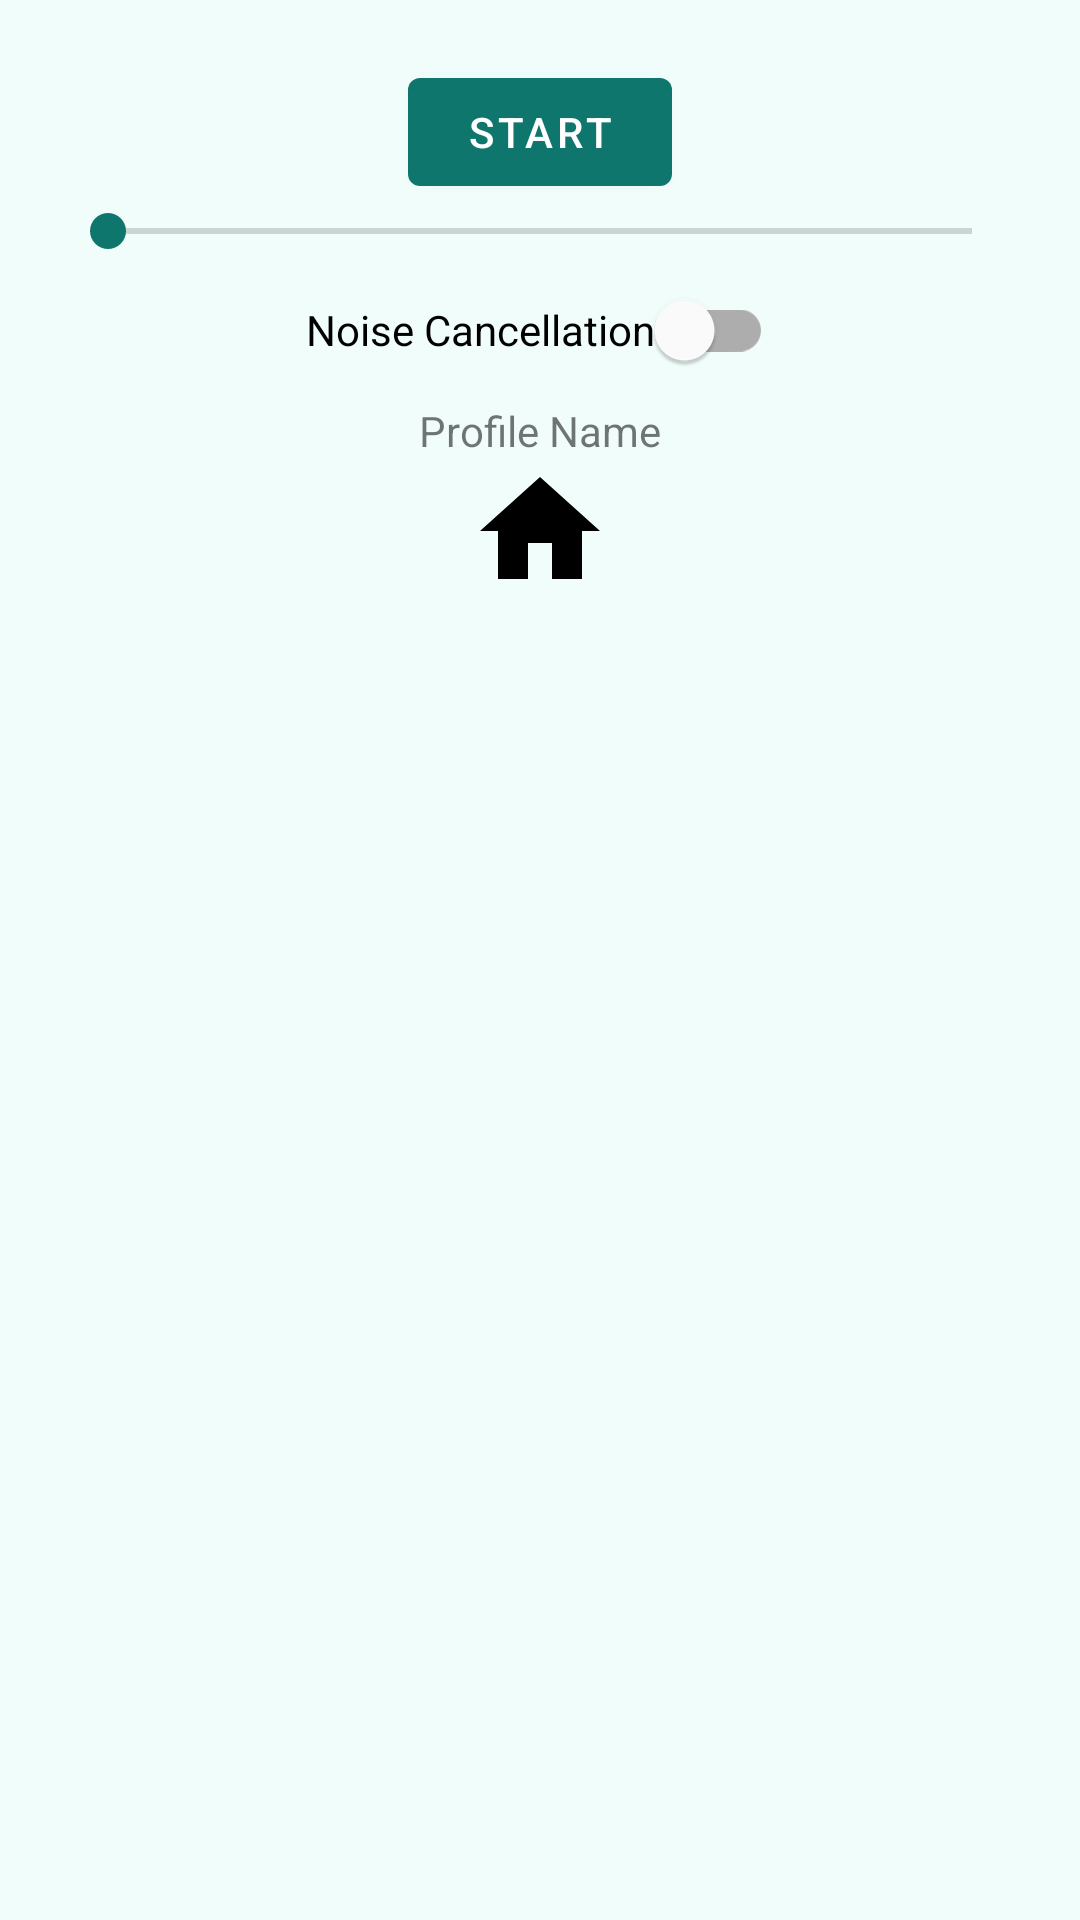

Screen size 1080px x 1920px. Icon name, then its center in pixels as (x,y):
home: (540,528)
